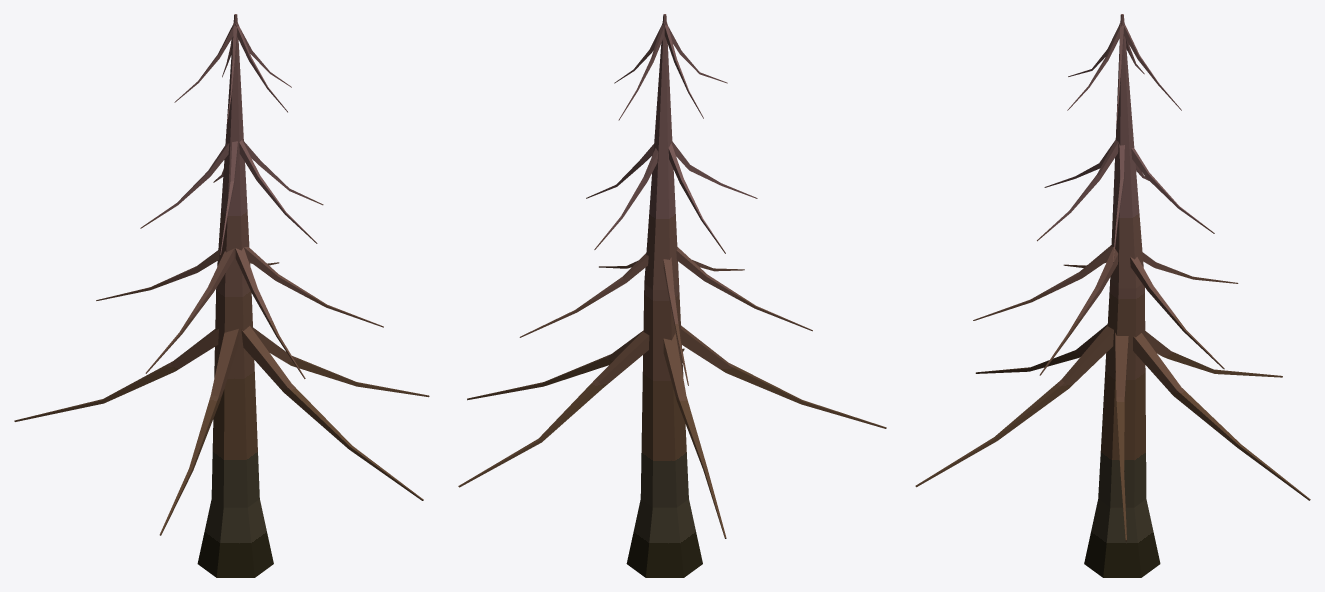
The model's file is SpruceDead.fbx.
3 views of the same model, side by side, from view 1: azimuth 30°, elevation 25°; view 2: azimuth 150°, elevation 25°; view 3: azimuth 270°, elevation 25° (orthographic).
Parts seen in each view (by area): view 1: SpruceDead; view 2: SpruceDead; view 3: SpruceDead.
Part boxes in pixels (x1,y1,x2,y2): SpruceDead: (14,14,429,577); SpruceDead: (458,14,886,577); SpruceDead: (915,14,1310,577).
Size of the model in its own units: 8.04 by 12.25 by 7.99.
